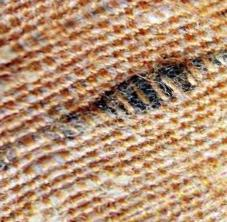slub: (44, 41, 227, 145)
